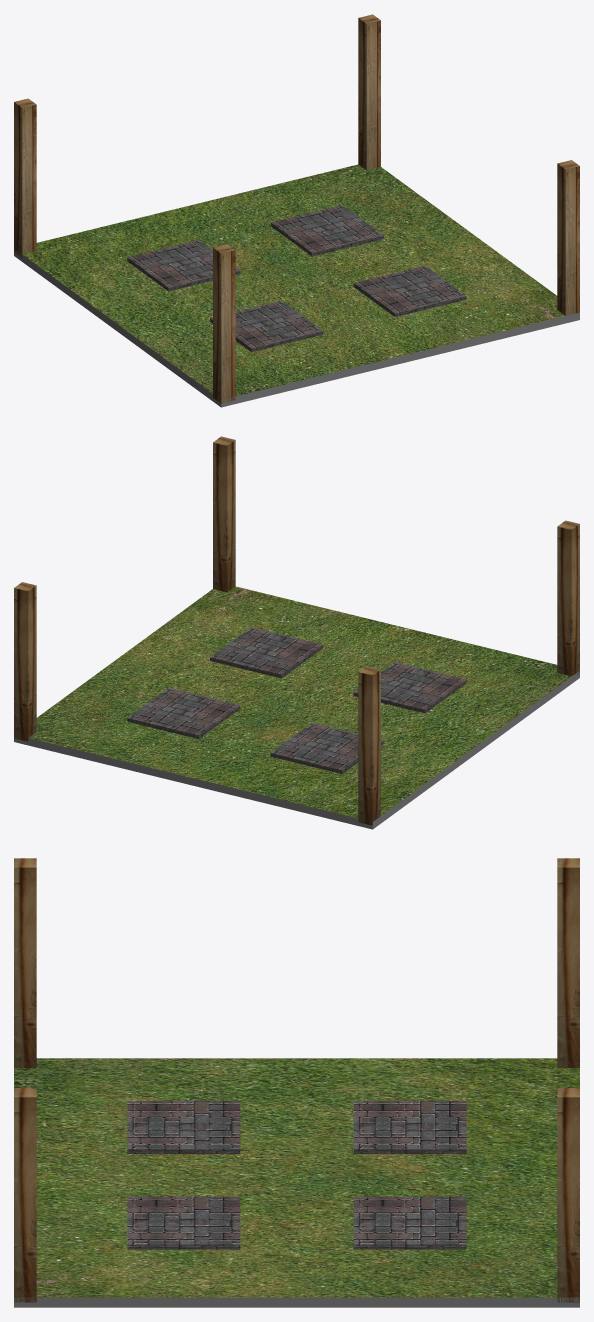
3 renders of one model, top to bottom at view 1: azimuth 30°, elevation 25°; view 2: azimuth 150°, elevation 25°; view 3: azimuth 270°, elevation 25°, orthographic. The views are drawn at different scales.
Visible parts, largest first — view 1: Kreuzung_Holz; view 2: Kreuzung_Holz; view 3: Kreuzung_Holz.
Part boxes in pixels (x1,y1,x2,y2): Kreuzung_Holz: (14, 14, 579, 407); Kreuzung_Holz: (14, 436, 579, 829); Kreuzung_Holz: (14, 858, 579, 1307).
Size of the model in its own units: 5 by 2.05 by 5.
20 materials, 19 textured.
